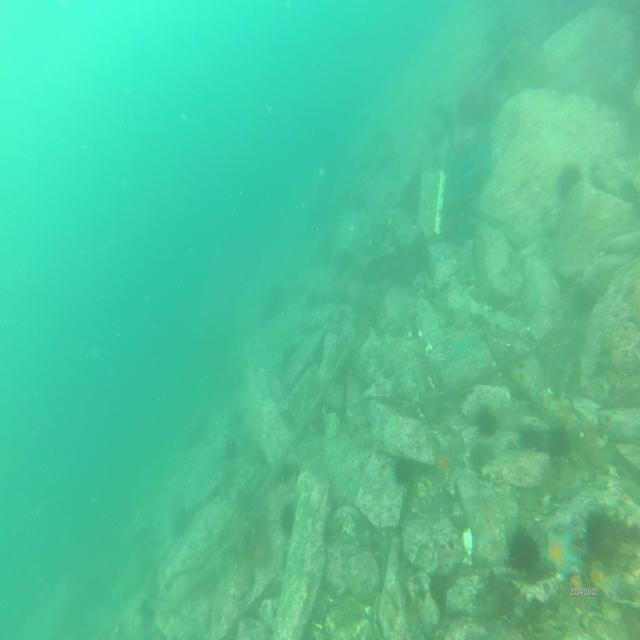echinus: (578, 516, 622, 563), (504, 529, 542, 572), (556, 160, 582, 208), (467, 431, 496, 473), (572, 274, 600, 316), (276, 501, 299, 539), (392, 454, 416, 488), (219, 436, 240, 468), (473, 408, 495, 438)
starfish: (540, 524, 579, 584), (549, 397, 581, 438), (430, 446, 457, 478), (450, 323, 475, 353)
